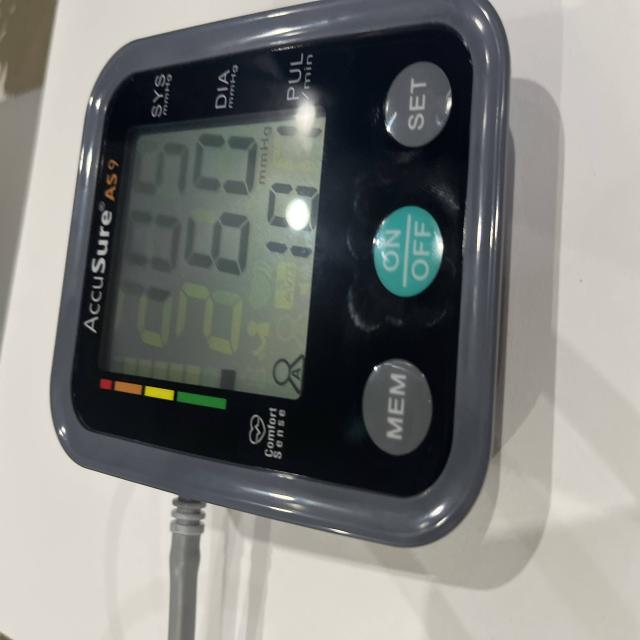bp: (5, 0, 518, 554)
